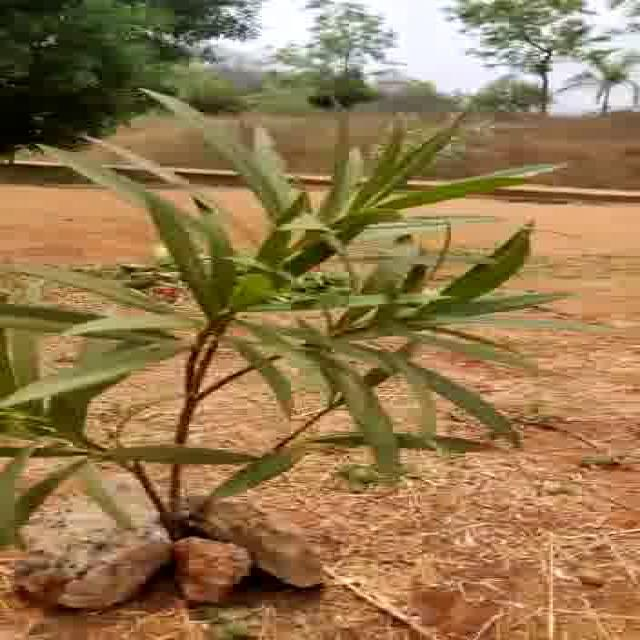Oleander: (0, 81, 546, 472)
